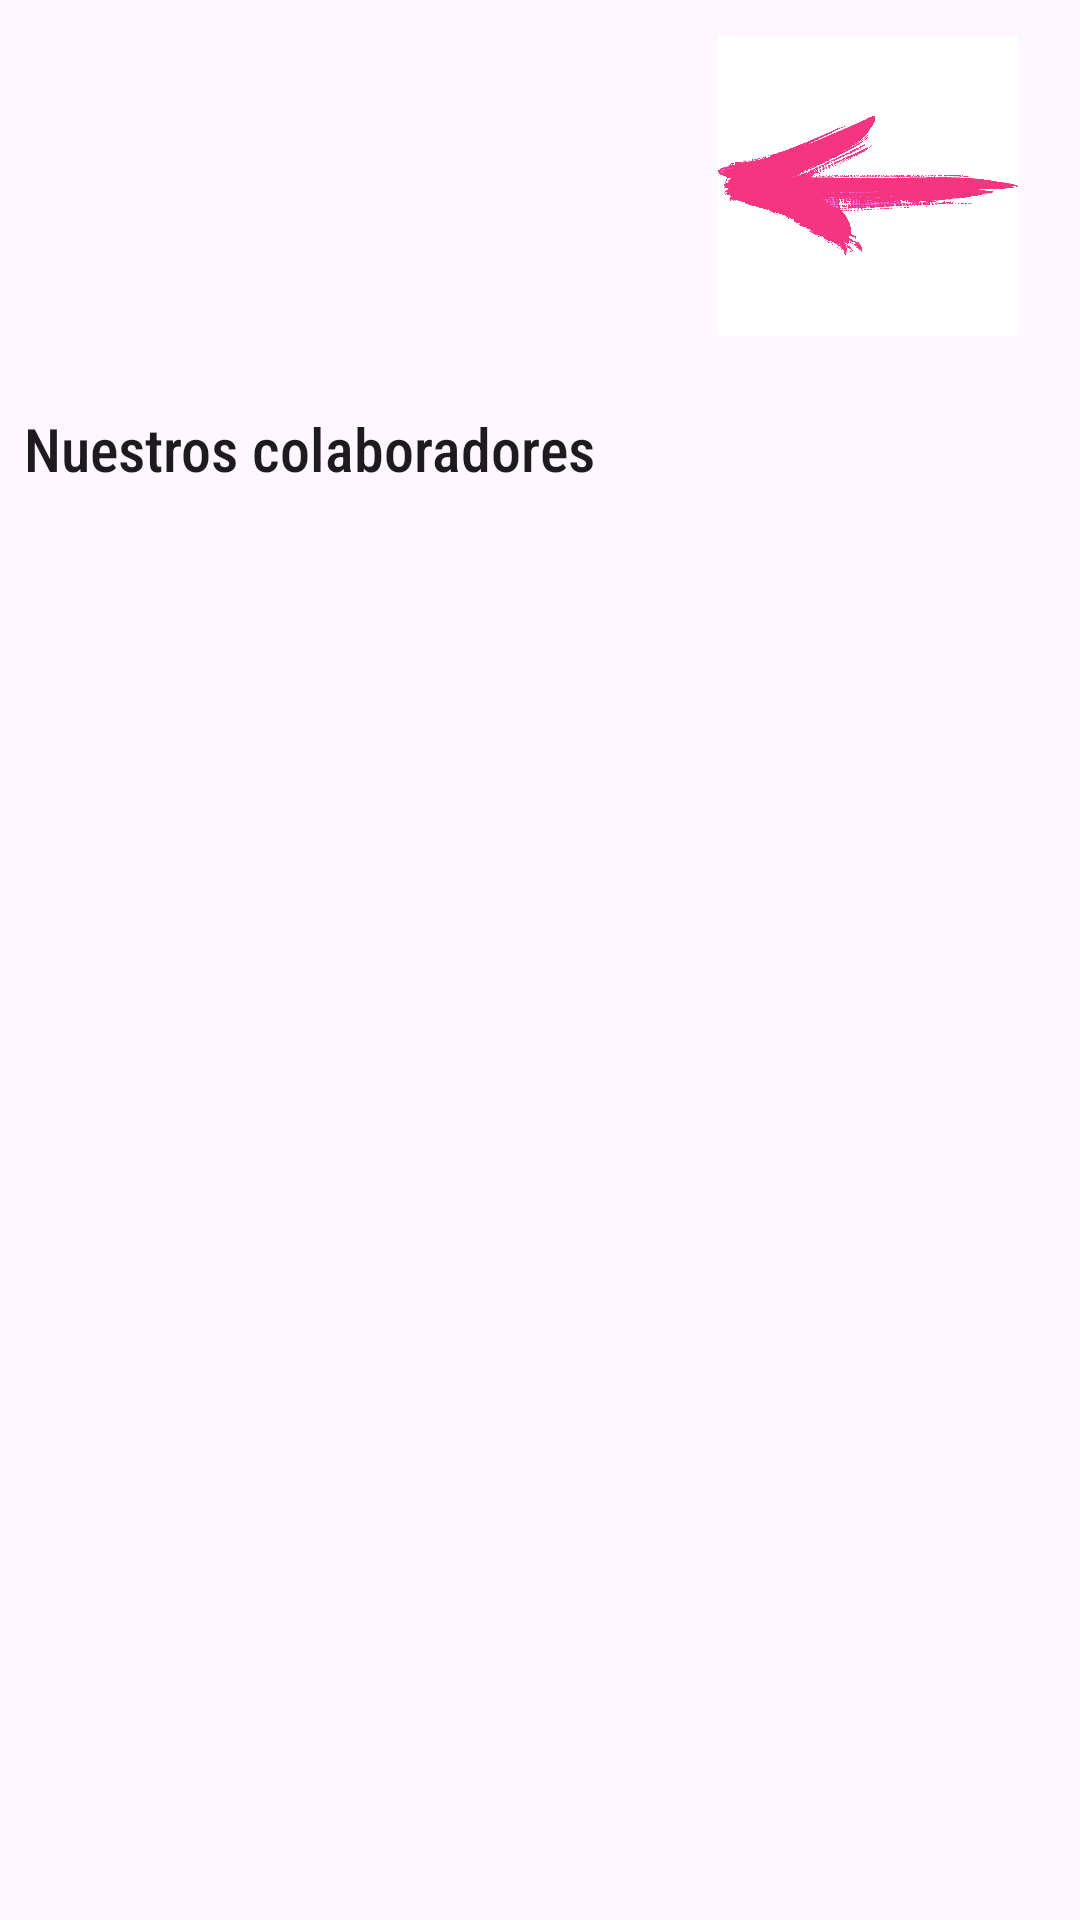

Screen size 1080px x 1920px. Icon name, then its box in pixels as (left=x1, top=y1, right=x2, bottom=y2):
volver: (left=718, top=116, right=1018, bottom=256)
